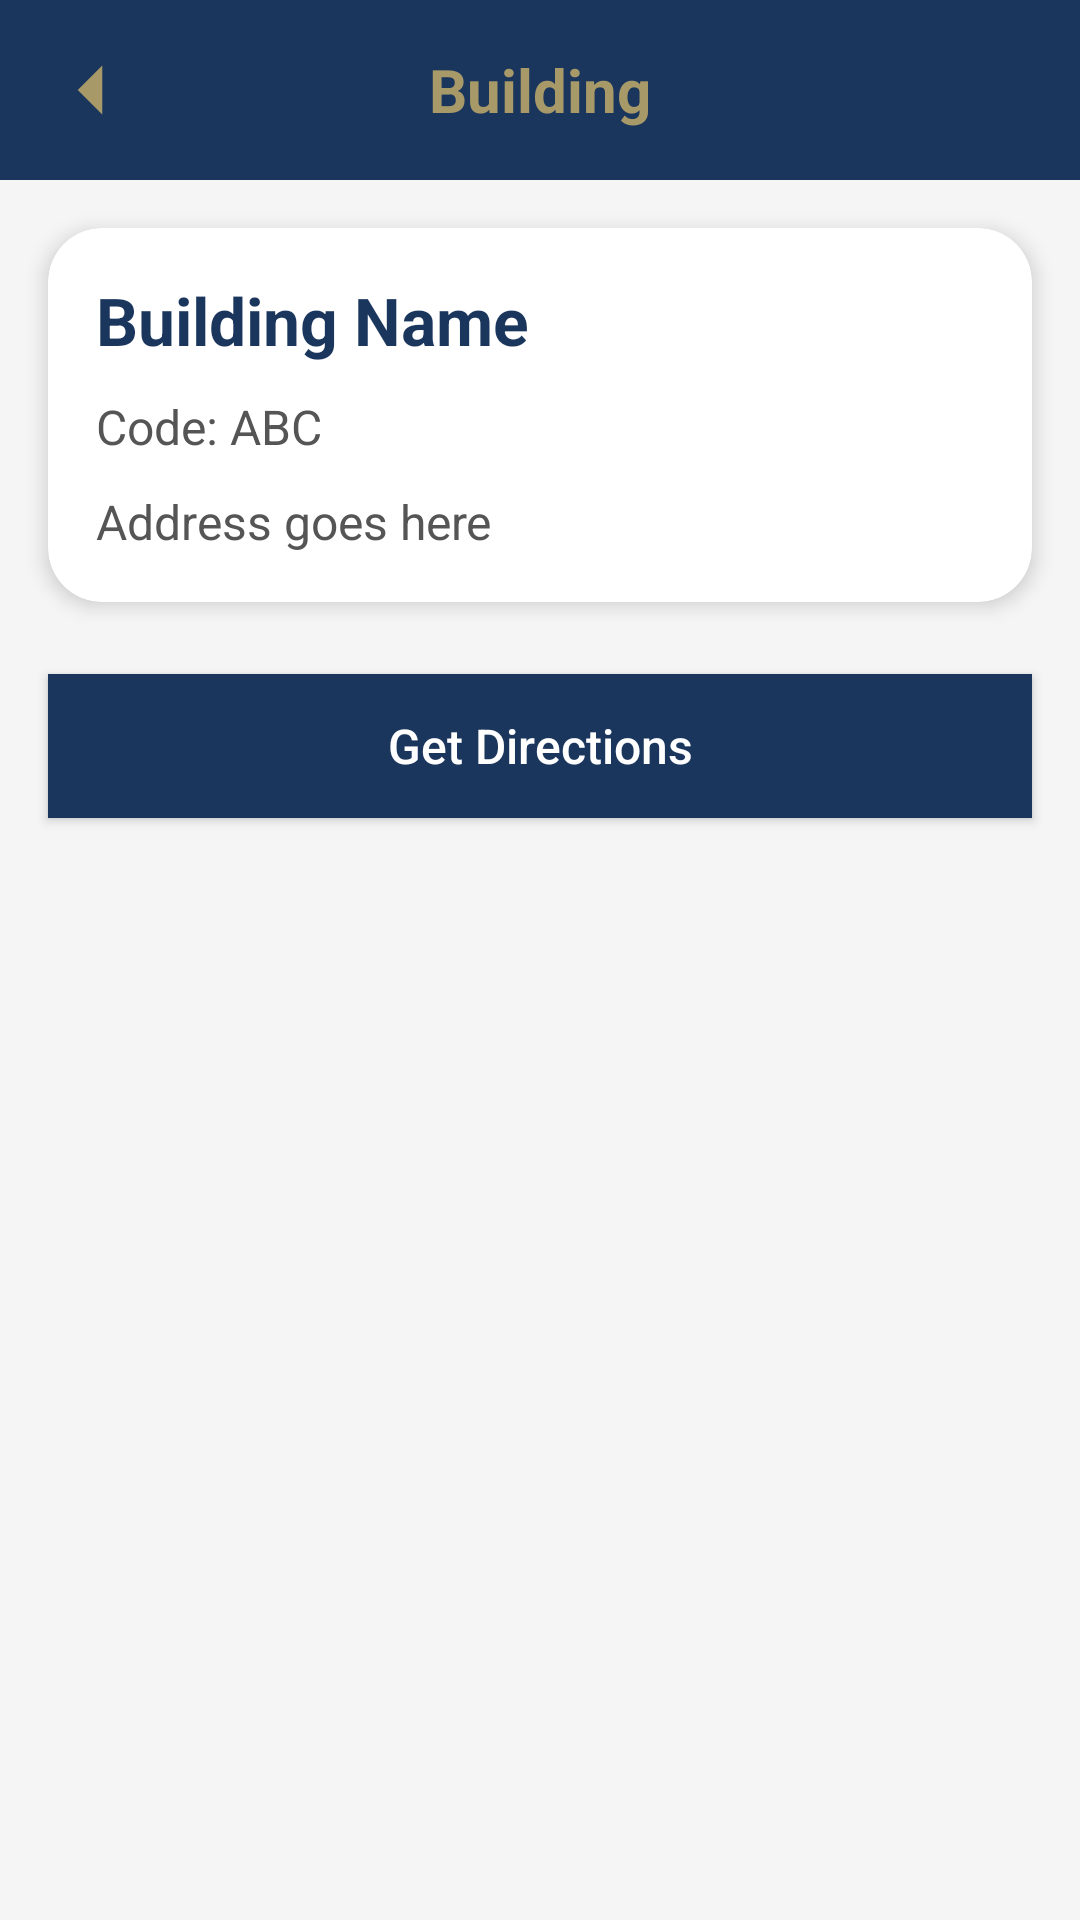

Icon bounding boxes for this 1080 x 1920 phone screenshot, format (x1, y1, x2, y2):
back: (78, 66, 103, 114)
